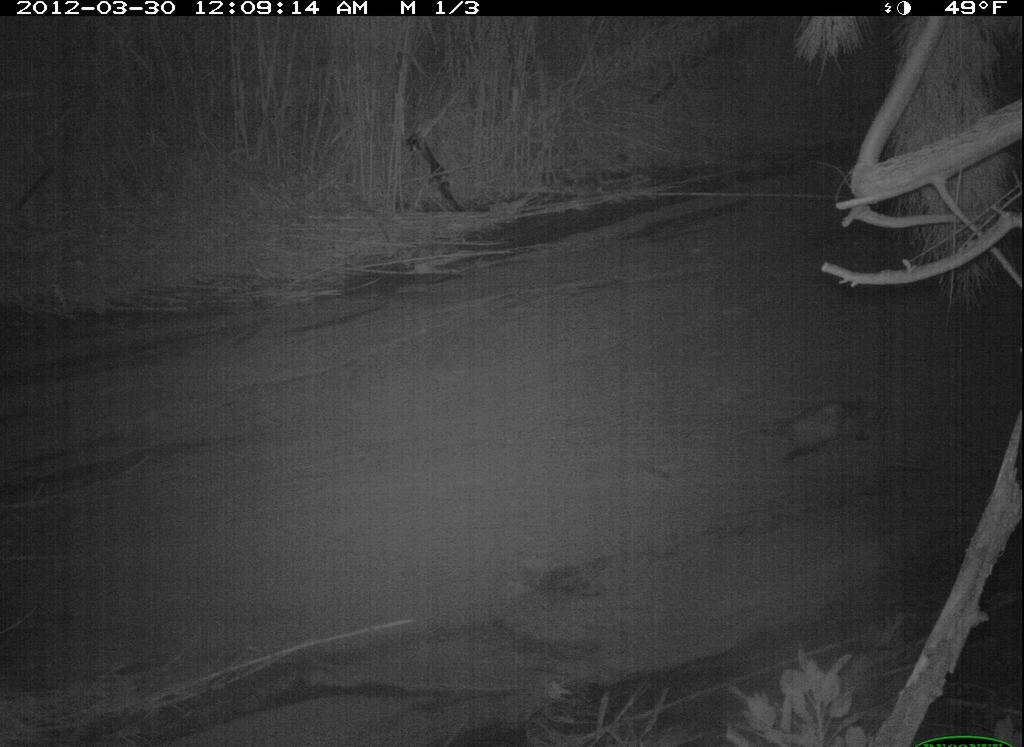opossum: (753, 387, 889, 478)
